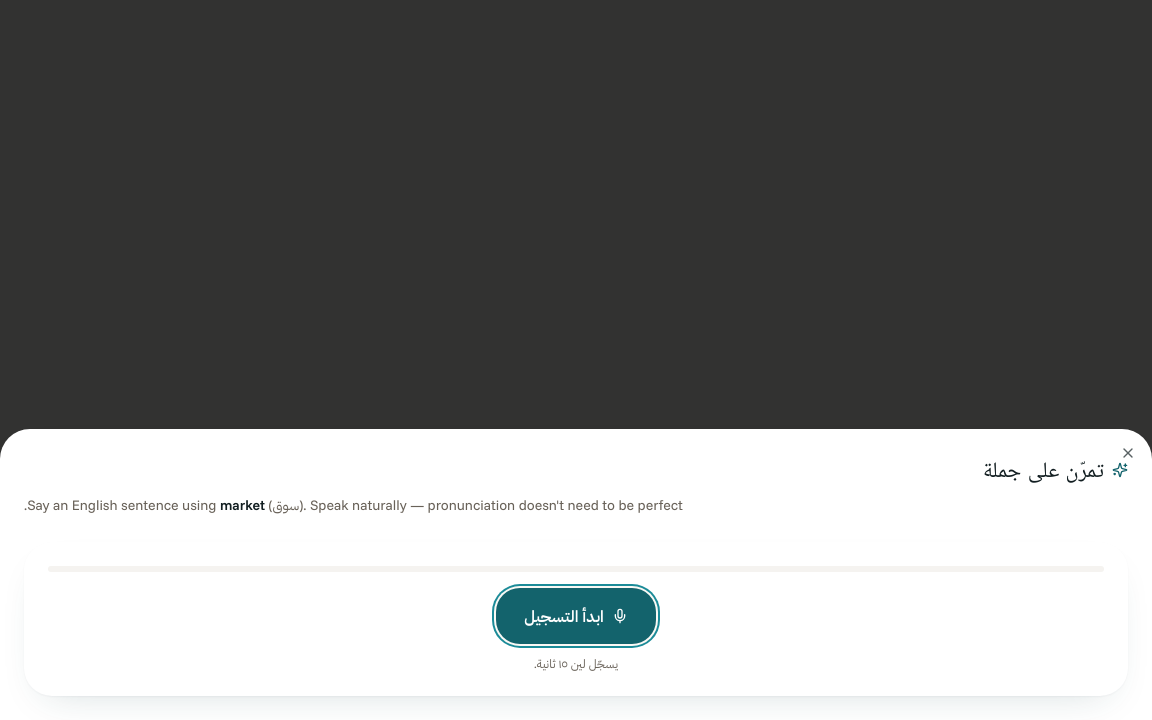
Test: the coaching › shows what the learner actually said
Click the button "ابدأ التسجيل".
click(576, 616)  # box [496,588,656,644]
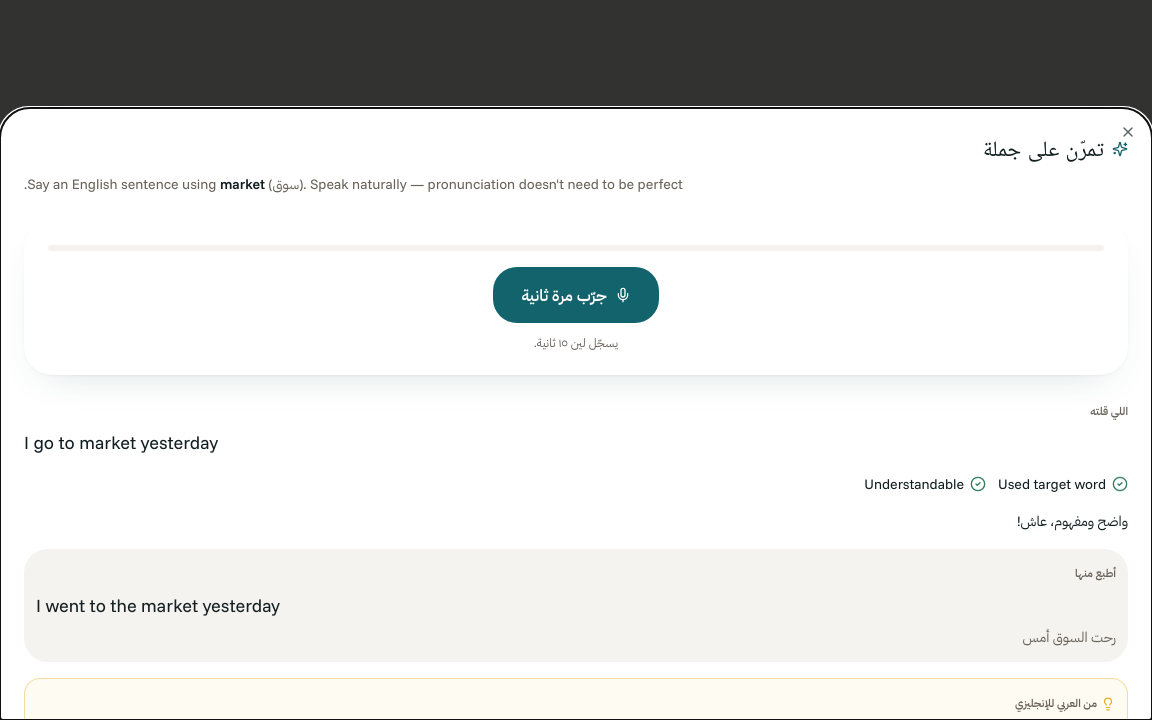
Expected: the text "اللي قلته" is shown, [1090,404,1128,418]
